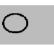no answer: (2, 12, 28, 34)
